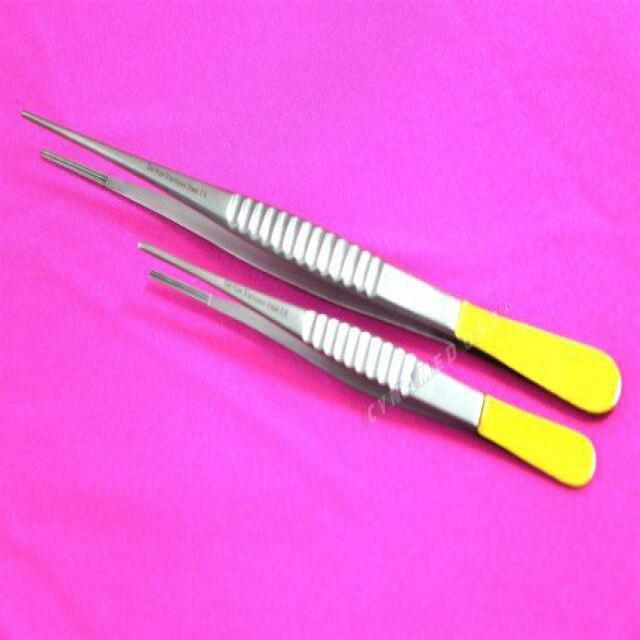Forceps: (21, 93, 627, 424), (129, 231, 602, 496)
